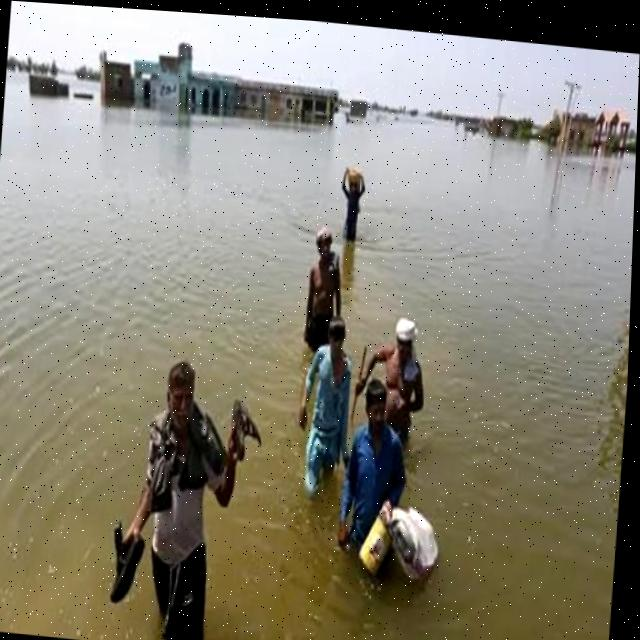civilian: (77, 332, 266, 640), (278, 299, 387, 511), (341, 368, 424, 569), (354, 312, 432, 445), (287, 221, 352, 362), (329, 160, 379, 257)
